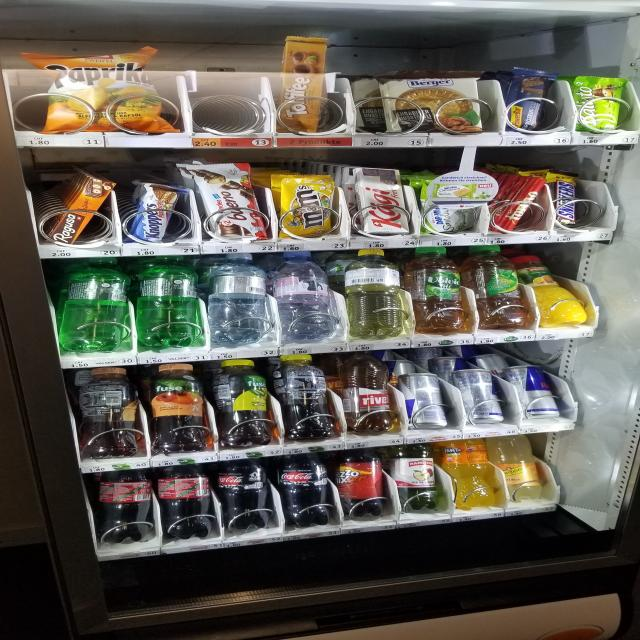balisto_muesli__37g__5000159418546: (573, 74, 628, 130)
berger_nusstoertli____: (379, 74, 481, 132)
bueno___43__4008400320328: (197, 163, 257, 243)
coke__flasche_50__54491472: (90, 466, 152, 544), (154, 460, 212, 541)
coke_zero_flasche_50__5449000131836: (278, 450, 330, 528), (216, 455, 270, 530)
darwida_sandwich____7610032065170: (422, 178, 485, 235)
evian___50__3068320353500: (278, 249, 330, 343)
fanta___50__40822938: (442, 436, 494, 508)
fuse_lemon__50__5449000235947: (214, 357, 271, 448), (278, 352, 332, 440)
fuse_peach__50__5449000236623: (80, 364, 143, 457), (148, 361, 206, 453)
granini_orange__50__: (522, 254, 589, 327)
kagi___50__7610046000259: (357, 166, 405, 238)
knoppers_riegel____4035800488808: (125, 183, 186, 246)
mezzomix___50__54490840: (329, 444, 386, 518)
mnms_gelb__45__40111445: (277, 173, 337, 238)
powerbar_proteinplusschoko__55__4029679520028: (504, 68, 556, 131)
ragusa___50__76401121: (47, 178, 116, 247)
ramseier_jusdepomme__50__7610057001078: (390, 440, 442, 512)
redbull___33__90162909: (509, 364, 557, 420), (400, 372, 446, 429), (458, 368, 500, 425)
rivella_rot__50__7610097111072: (333, 349, 393, 434)
schweppes_citrus__50__: (496, 433, 550, 502)
snickers___50__5000159461122: (550, 170, 581, 226)
toffifee___33__4014400924275: (280, 37, 330, 132)
torino___46__76415272: (496, 174, 552, 234)
valser_classic__50__76404160: (58, 257, 134, 358), (136, 255, 199, 349)
valser_still__50__7610335002575: (210, 250, 267, 344)
valser_vivabirne__50__7610335001530: (346, 247, 404, 336)
volvic_teeminze__50__3057640335648: (466, 245, 520, 329), (416, 246, 460, 332)
zweifel_paprika__90__7610095013002: (40, 44, 166, 133)
